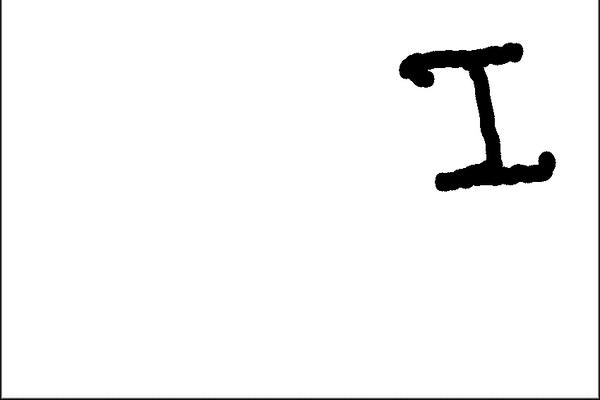i: (394, 36, 567, 202)
